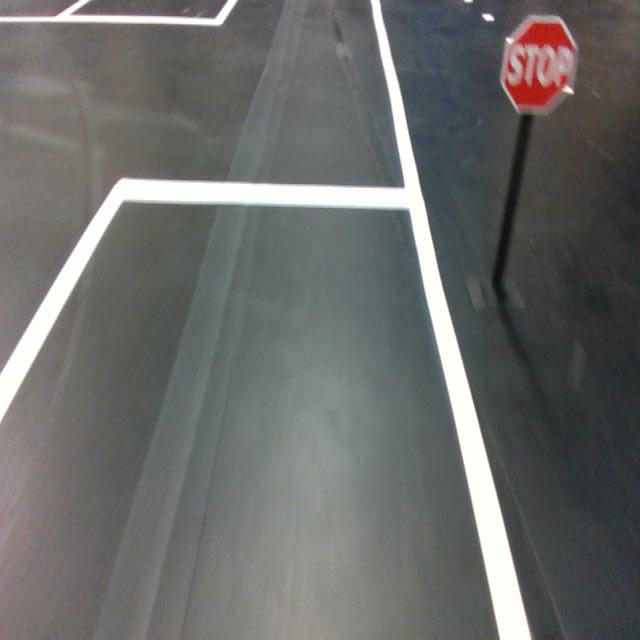stop-sign: (500, 15, 578, 116)
